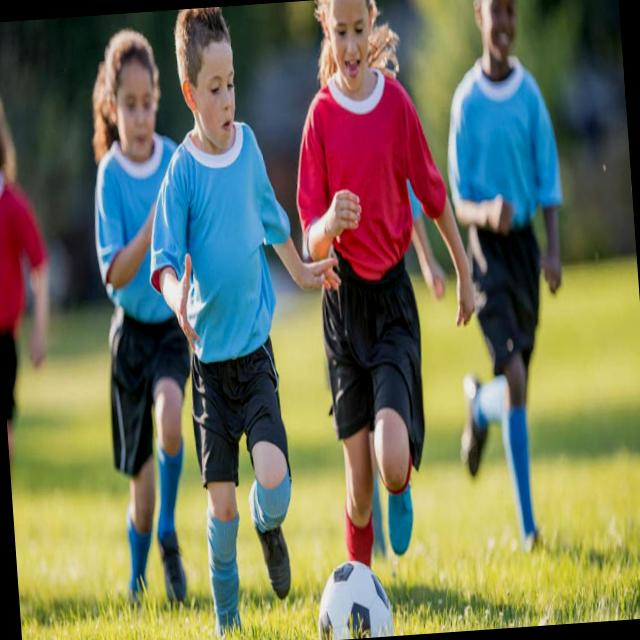Soccer Ball: (314, 559, 393, 640)
